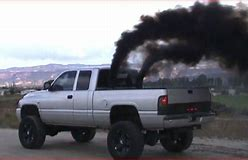smoke: (109, 1, 248, 85)
